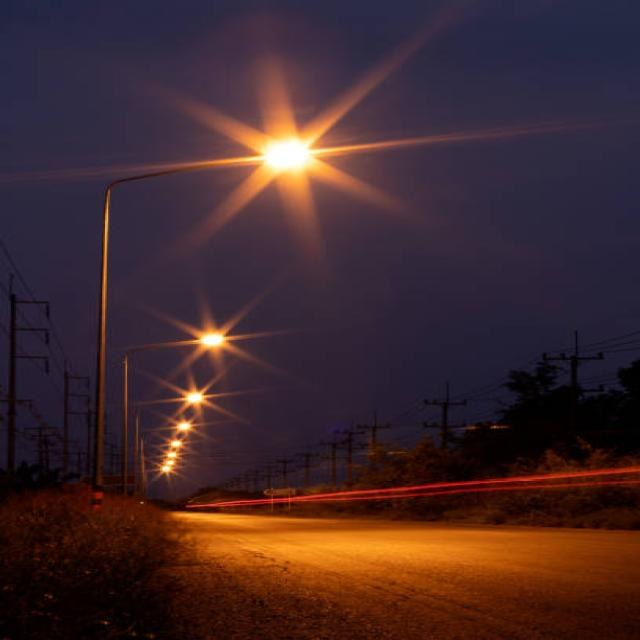acesa: (201, 91, 363, 206), (142, 302, 281, 381)
